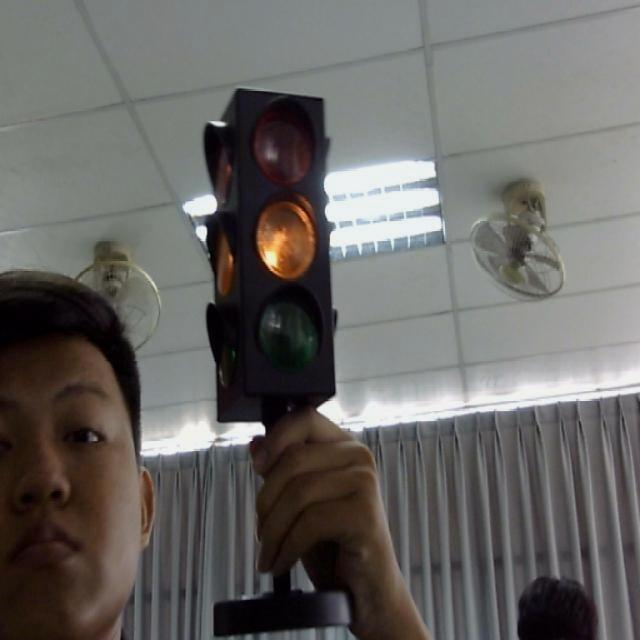Yellow: (197, 80, 347, 425)
